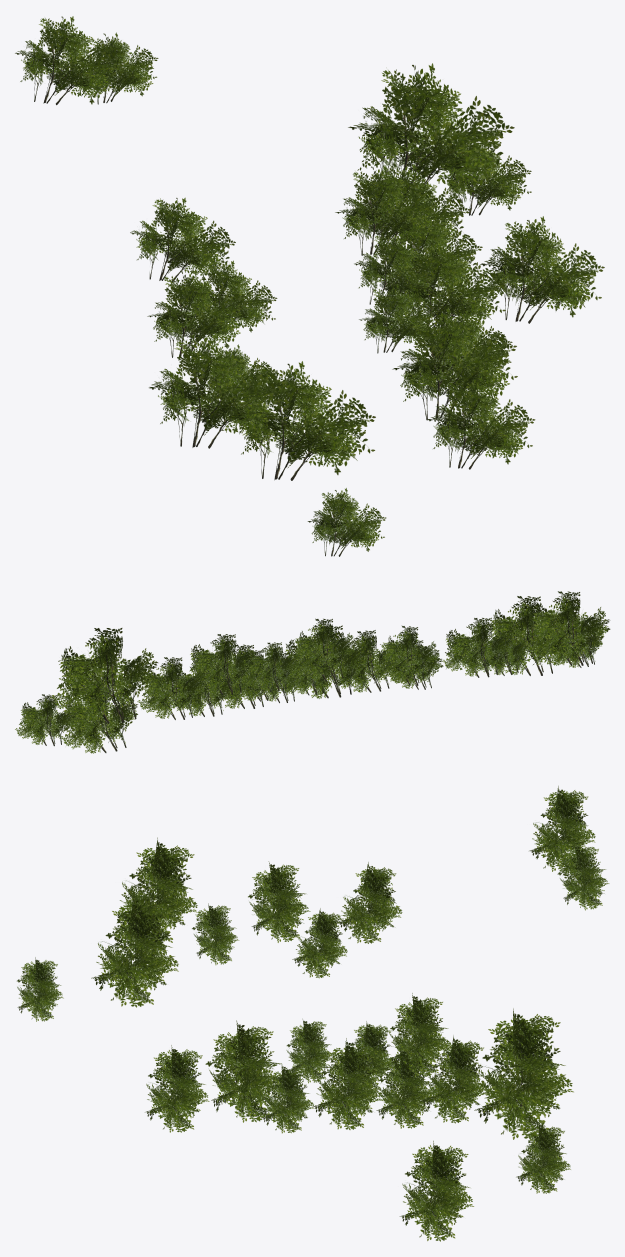
The model's file is bush_brown_leaf_b.glb.
3 renders of one model, top to bottom at view 1: azimuth 30°, elevation 25°; view 2: azimuth 150°, elevation 25°; view 3: azimuth 270°, elevation 25°, orthographic. The views are drawn at different scales.
Visible parts, largest first — view 1: bush.png__; view 2: bush.png__; view 3: bush.png__.
Part boxes in pixels (box(x1,y1,x2,y2)): bush.png__: box(15, 16, 604, 556); bush.png__: box(15, 591, 610, 753); bush.png__: box(17, 786, 609, 1241).
Bounding box in the file's own units: 42.73 × 23.06 × 43.9.
Materials: 1 (1 with a texture image).
